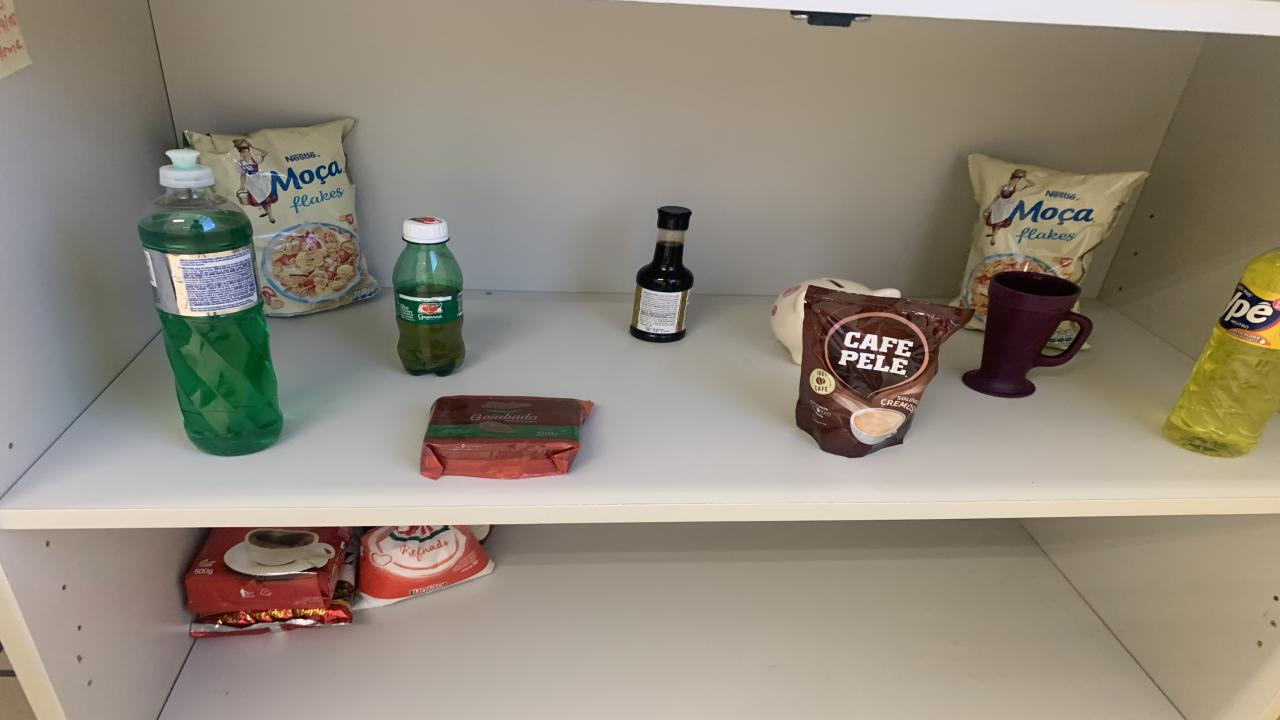Coffee-Pantry_Items: (795, 287, 972, 458)
Detergent-Cleanup_Items: (138, 148, 282, 456), (1165, 248, 1280, 458)
English_Sauce-Pantry_Items: (630, 206, 692, 341)
Flakes-Snacks: (182, 118, 380, 317), (955, 154, 1148, 330)
Guarana-Drinks: (392, 216, 465, 375)
Guava-Snacks: (420, 396, 592, 478)
Pig_Safe-Miscellaneous: (770, 278, 900, 364)
